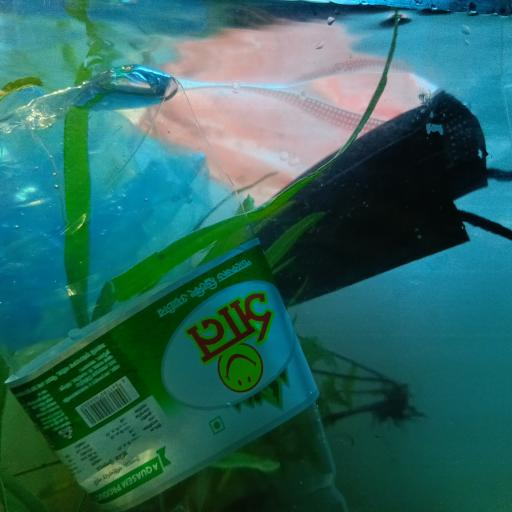mask: (249, 90, 512, 308), (119, 68, 399, 205)
plastic_bag: (0, 78, 211, 342)
plastic_bottle: (0, 66, 347, 512)
